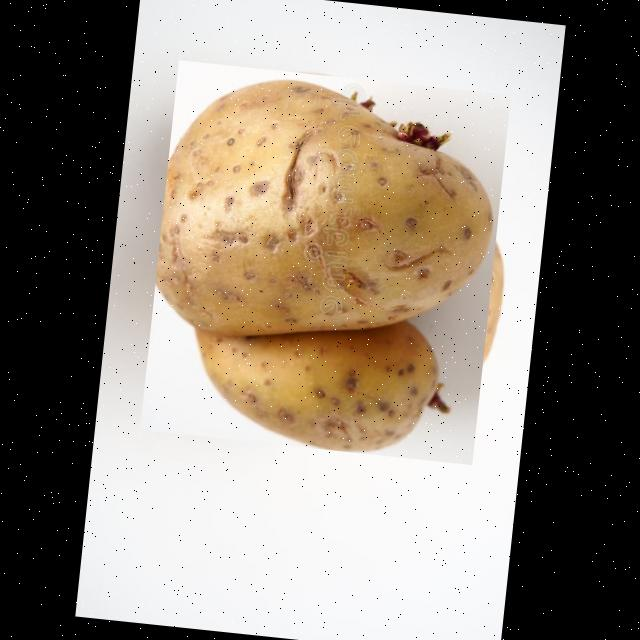Sprouted potato: (140, 59, 510, 464)
